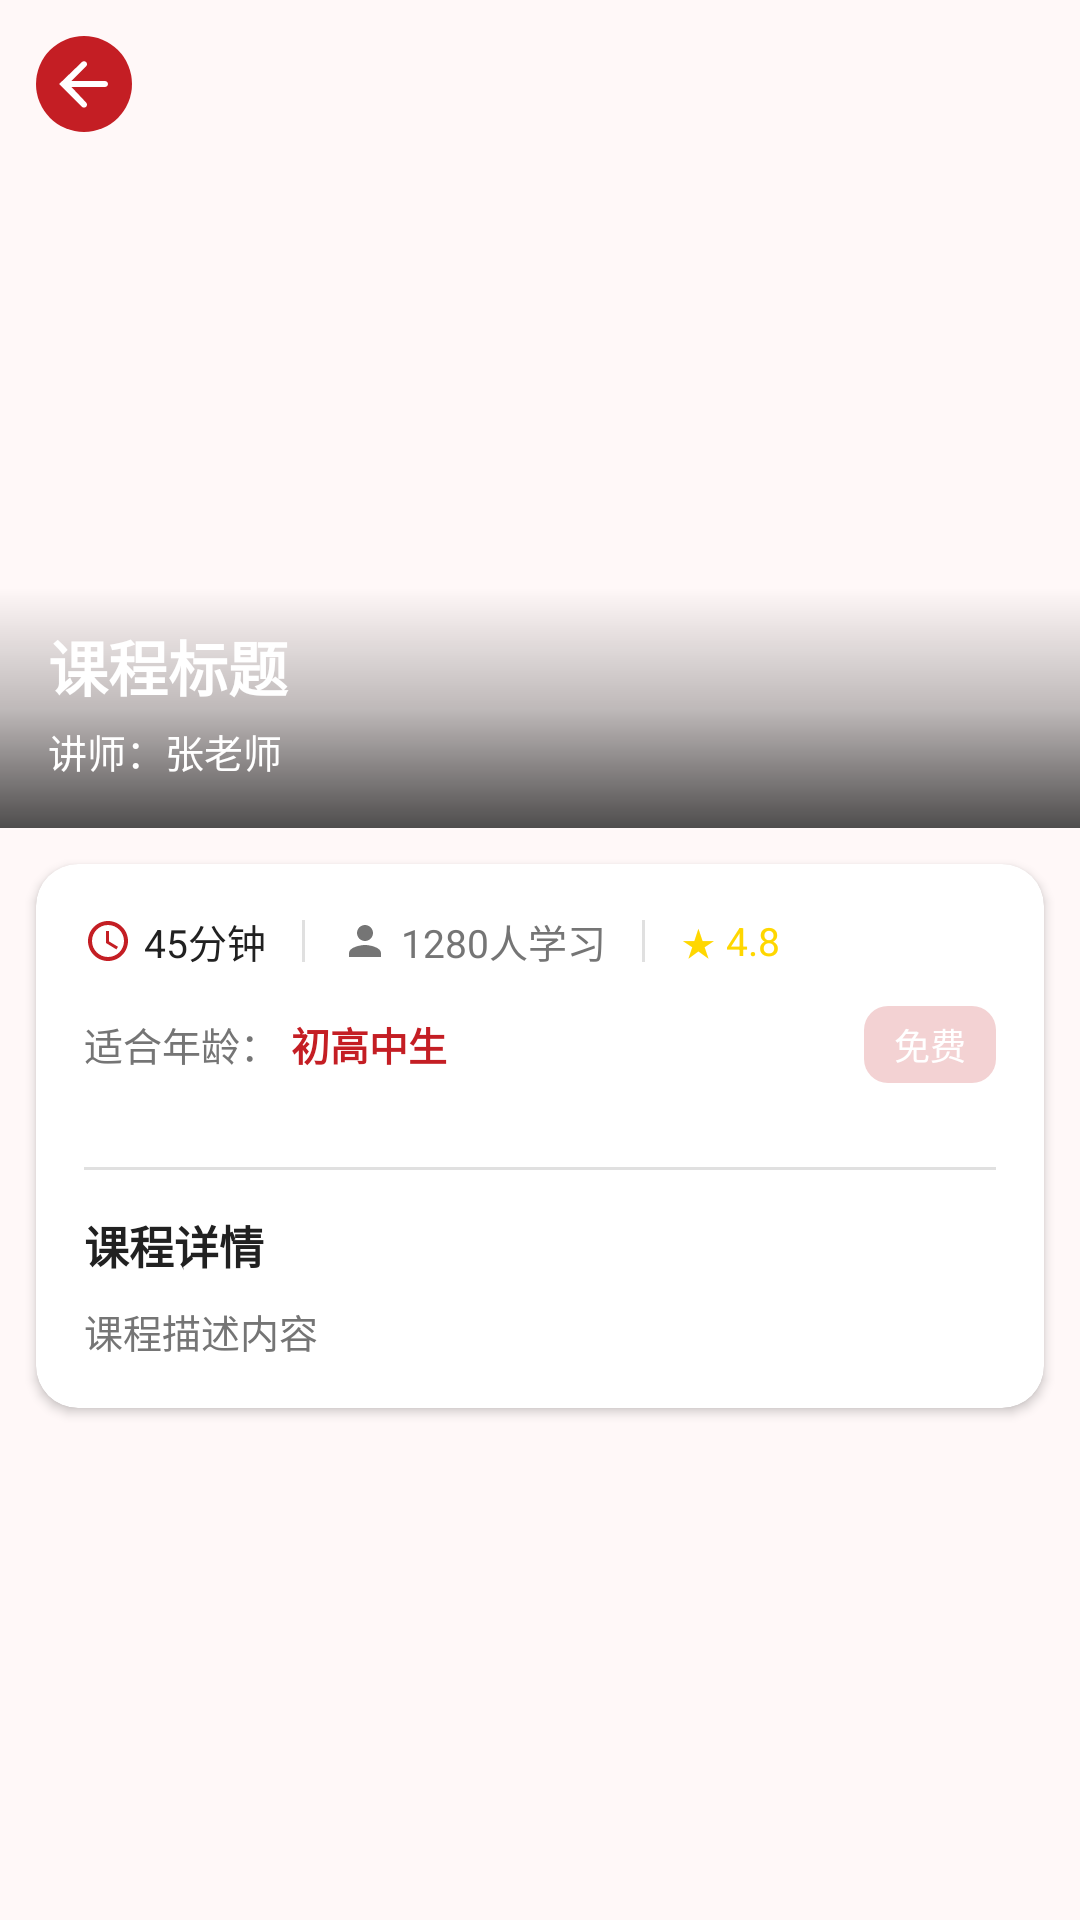

Icon click points for this 1080 x 1920 phone screenshot, format [x,y]:
back: [84,84]
clock: [108,941]
person: [365,941]
